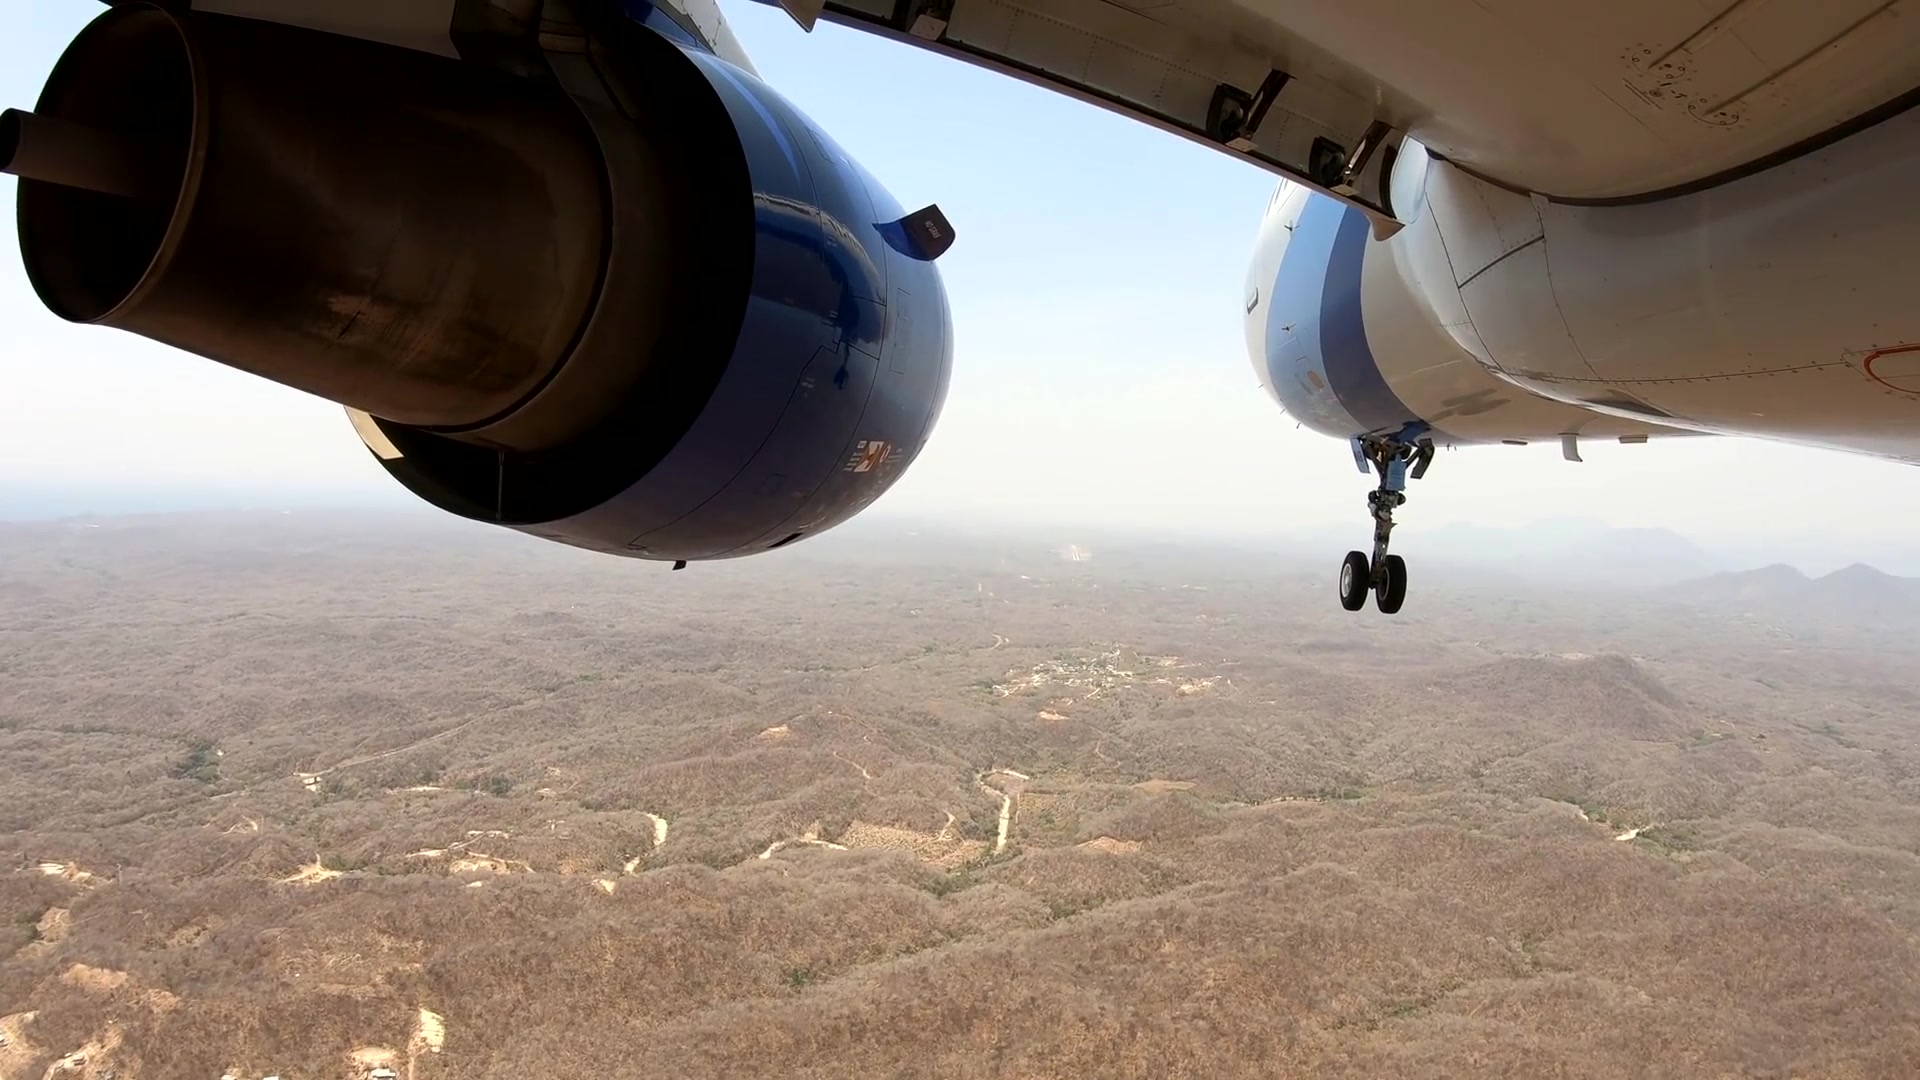runway: (1067, 546, 1083, 563)
